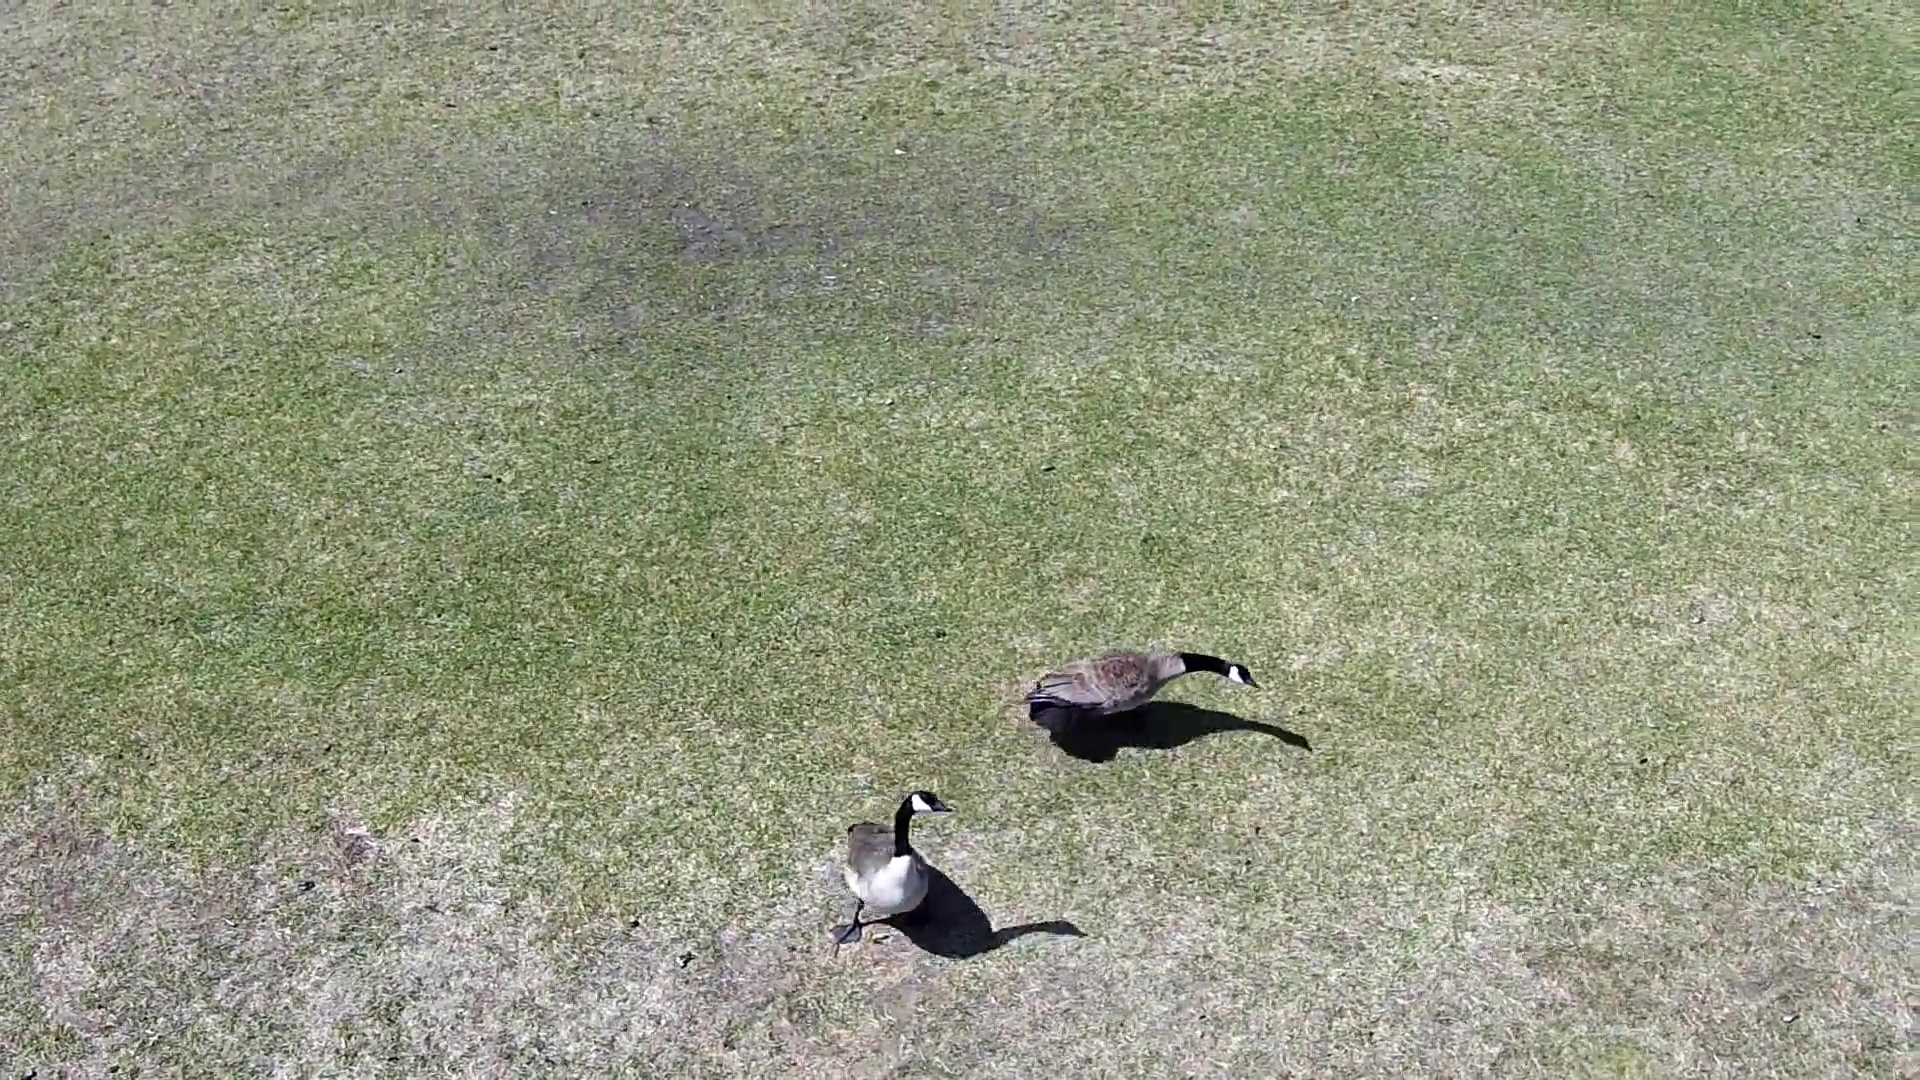goose: (1017, 649, 1263, 748), (839, 783, 947, 942)
